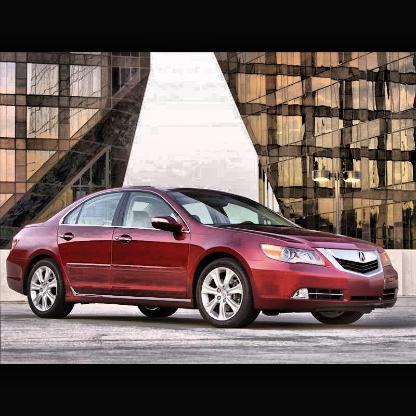Acura RL Sedan 2012: (8, 186, 401, 329)
